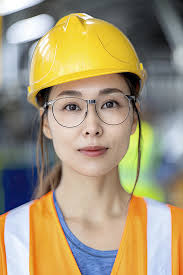HELMET: (28, 13, 147, 107)
